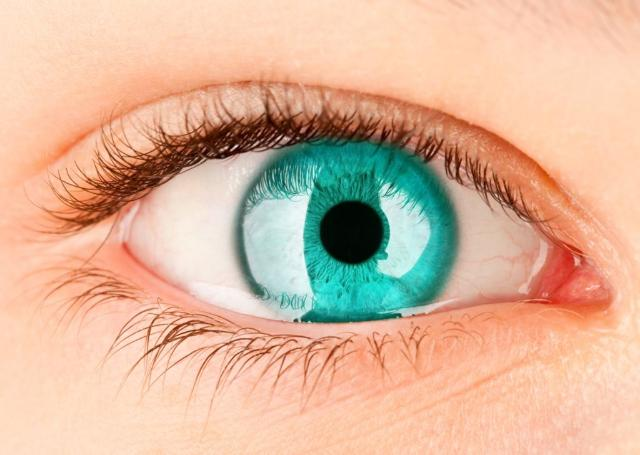eye: (234, 135, 464, 338)
